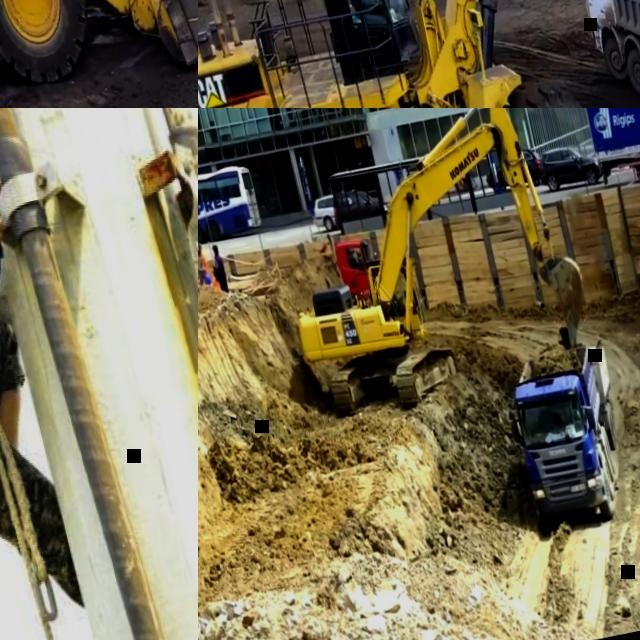Hardhat: (198, 241, 201, 248)
NO-Hardhat: (211, 244, 218, 251)
NO-Safety Vest: (212, 256, 226, 282), (355, 0, 376, 8)
Person: (0, 108, 84, 640), (206, 243, 229, 293), (198, 238, 210, 285), (565, 402, 580, 423), (208, 267, 220, 289)
Safety Vest: (198, 250, 208, 273), (571, 407, 579, 421), (211, 277, 220, 288)
machinery: (253, 108, 602, 429), (198, 0, 640, 108), (489, 318, 639, 536), (0, 0, 198, 108), (331, 233, 385, 304)
vehicle: (198, 157, 264, 265), (579, 108, 640, 188), (533, 137, 603, 194), (328, 181, 392, 236), (480, 144, 545, 196), (307, 189, 356, 234)
